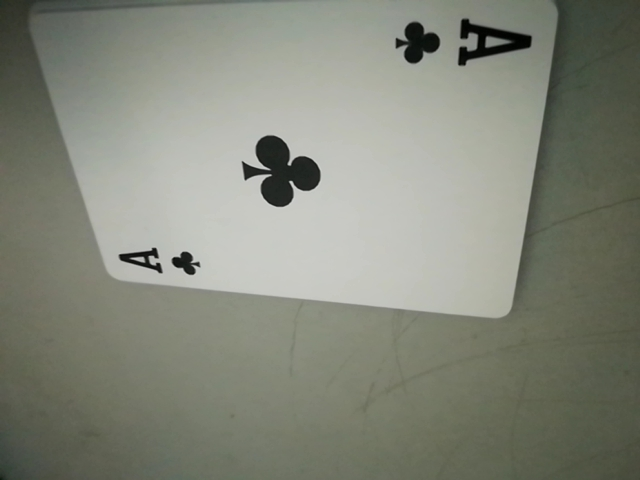mh a: (389, 8, 534, 77), (111, 237, 212, 282)
